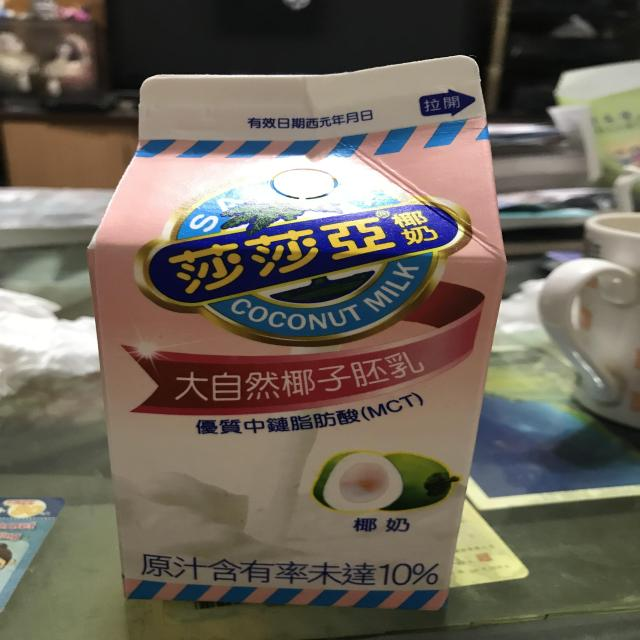cardboard: (93, 48, 501, 610)
